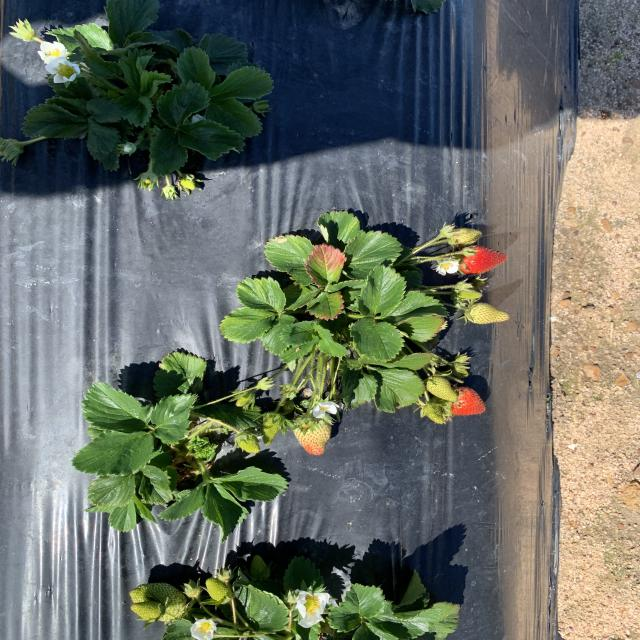unripe: (461, 244, 508, 275), (442, 388, 487, 414)
